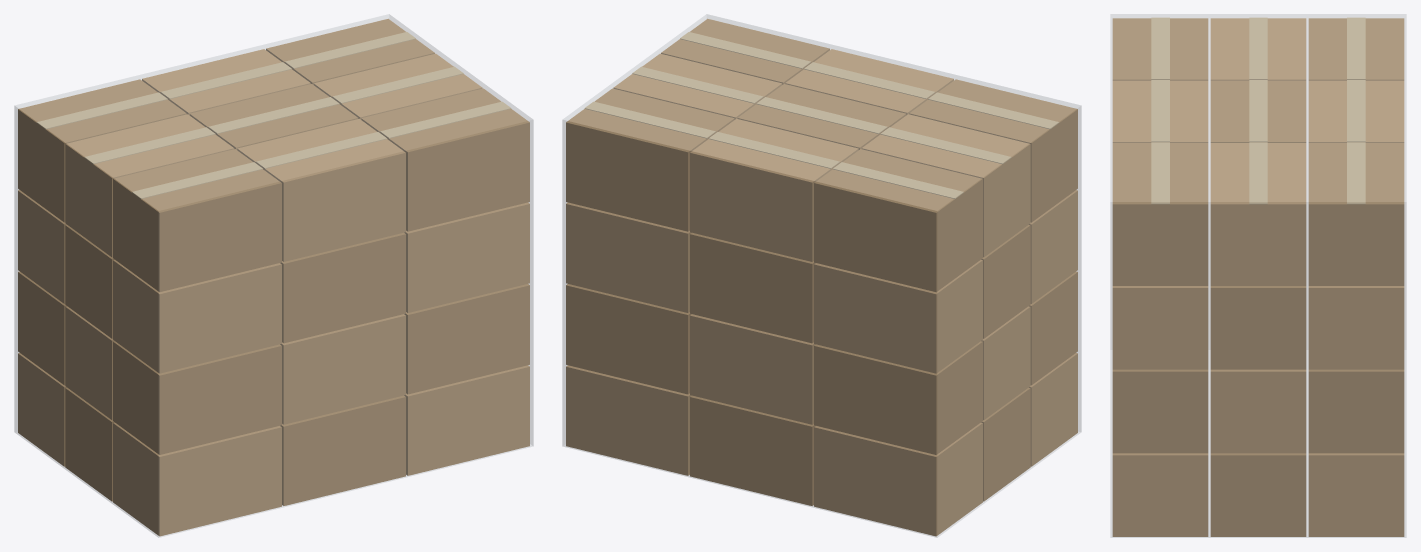
The model's file is load-eur-wrapped-cartons.glb.
3 renders of one model, left to right at view 1: azimuth 30°, elevation 25°; view 2: azimuth 150°, elevation 25°; view 3: azimuth 270°, elevation 25°, orthographic. The views are drawn at different scales.
Parts seen in each view (by area): view 1: load-wrapped-cartons; view 2: load-wrapped-cartons; view 3: load-wrapped-cartons.
Boxes of the visible parts, box(x1,y1,x2,y2) form: load-wrapped-cartons: box(14, 14, 533, 537); load-wrapped-cartons: box(562, 14, 1081, 537); load-wrapped-cartons: box(1110, 14, 1406, 537).
Size of the model in its own units: 1.2 by 1 by 0.8.
